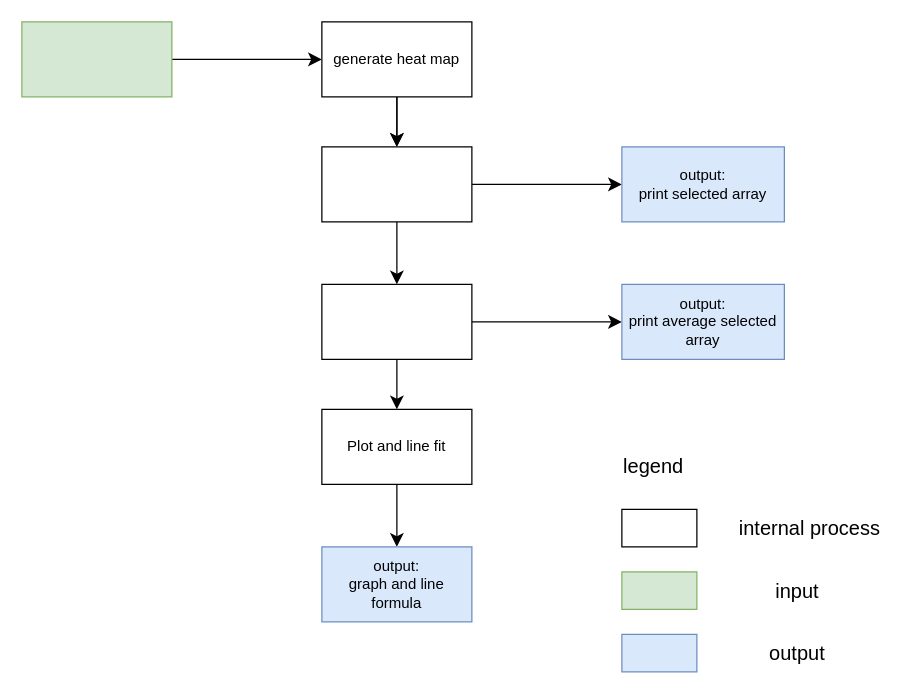
Some shapes in this 919 by 694 pixel diagram are drawn without their labels. The shapes that lost their labels are listed below. From the top down, each one's centre as x and y in pixels, then its label:
(96,59): validate user input: file path heat map color contrast
(396,184): Interactively select an area of heatmap
(396,321): average the area across collum
